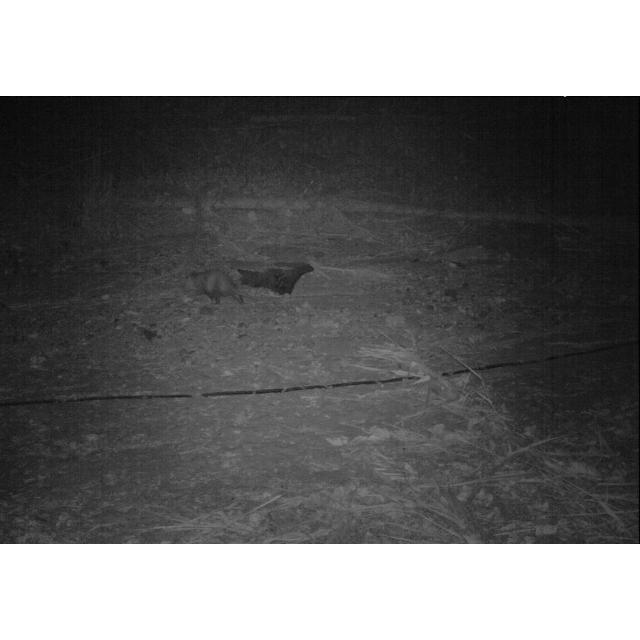animals: (182, 266, 248, 310)
